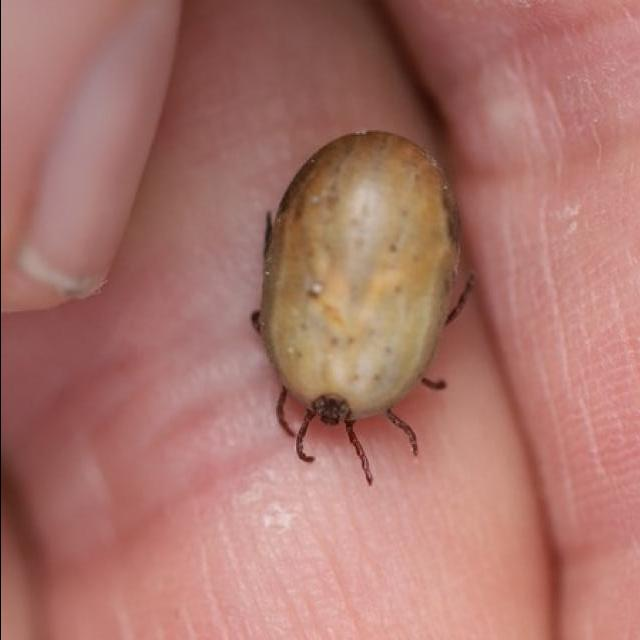Dermacentor Reticulatus-F-Fed: (249, 130, 475, 484)
